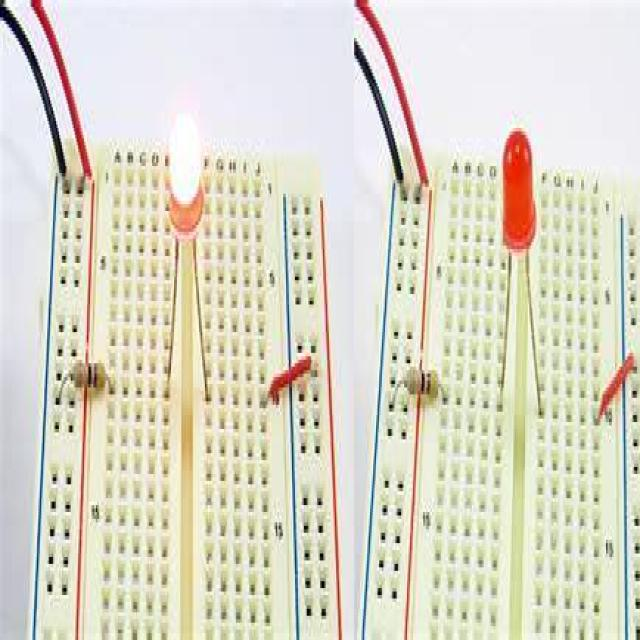Led: (500, 129, 542, 415), (169, 114, 209, 397)
Resistor: (394, 367, 446, 403), (61, 361, 108, 389)
